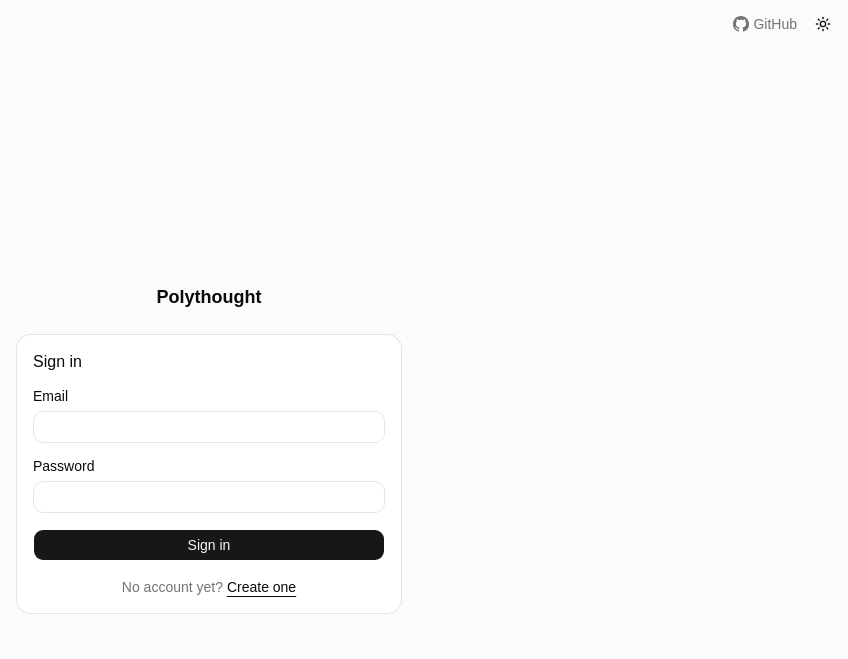
Test: signing in › shows why signing in failed
The image size is (848, 659).
Step 1. Type "alice@example.com" into the field labelled "Email" → (209, 427), box [33,411,385,443]
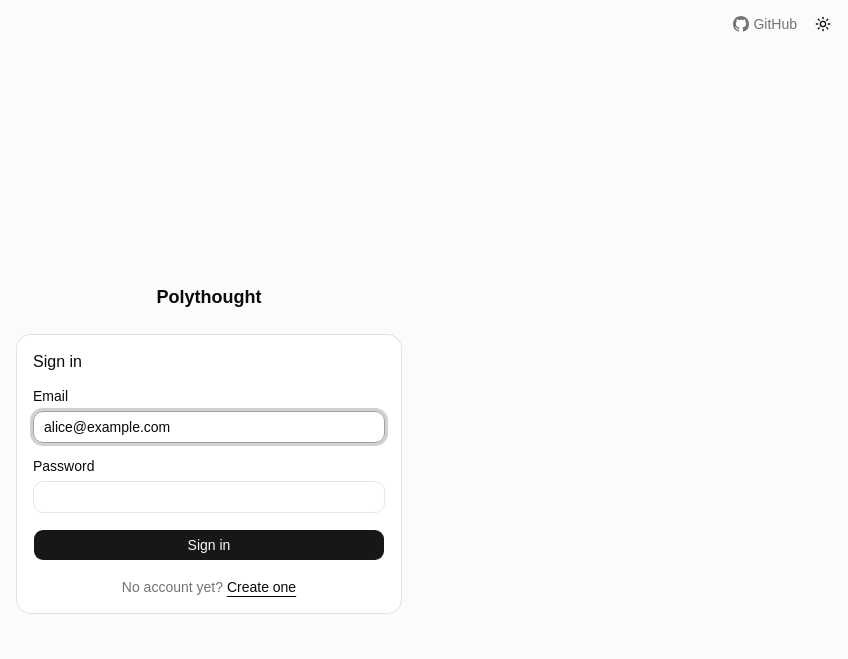
Step 2. Type "wrong password" into the password field labelled "Password" → (209, 497), box [33,481,385,513]
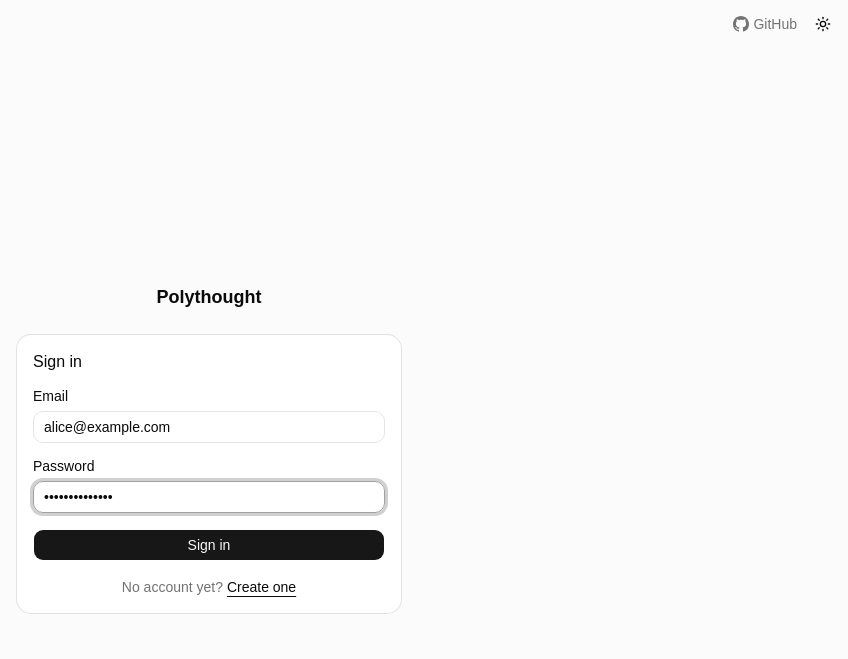
Step 3. Click the button "Sign in" → (209, 545), box [33,529,385,561]
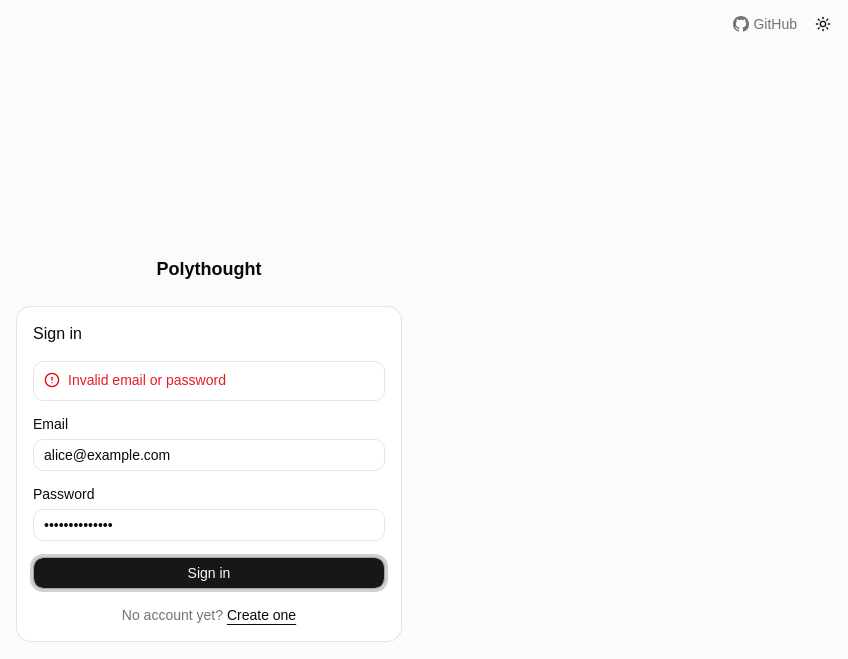
Expected: the text "Invalid email or password" is shown, [68,372,226,388]
